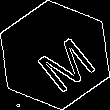M_NW: (19, 21, 91, 89)
